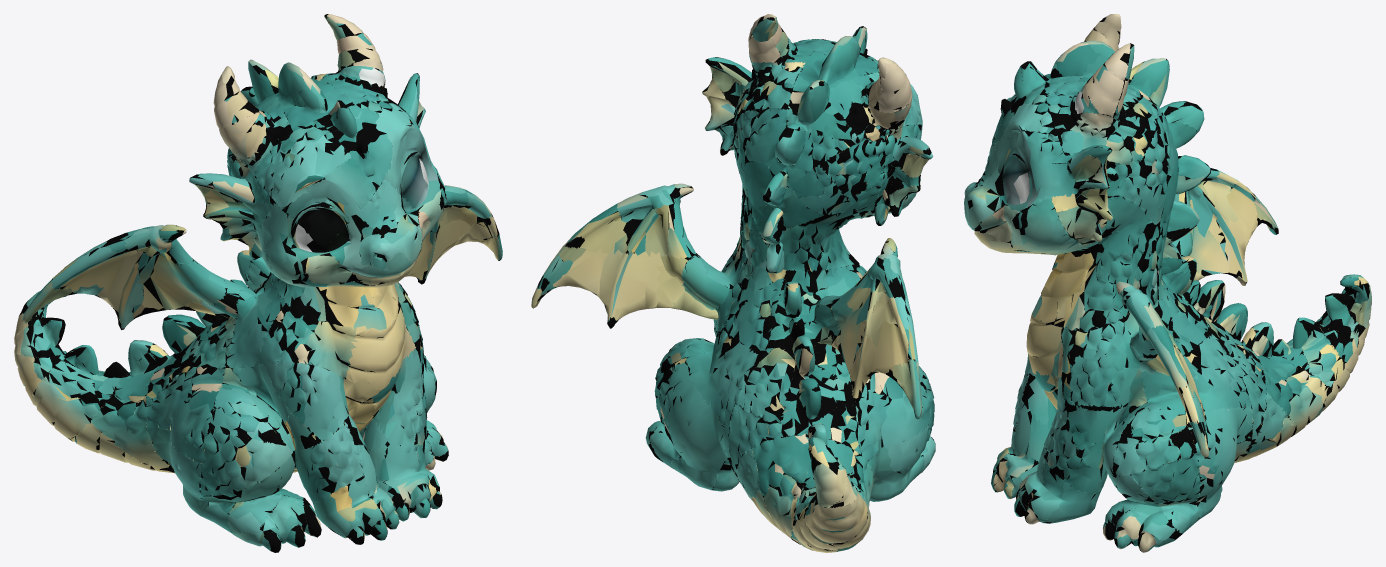
Rendered from inspection-lod.glb.
3 renders of one model, left to right at view 1: azimuth 30°, elevation 25°; view 2: azimuth 150°, elevation 25°; view 3: azimuth 270°, elevation 25°, orthographic. The views are drawn at different scales.
Parts seen in each view (by area): view 1: cartoon-dragon rebaked inspection LOD; view 2: cartoon-dragon rebaked inspection LOD; view 3: cartoon-dragon rebaked inspection LOD.
Part boxes in pixels (x1,y1,x2,y2): cartoon-dragon rebaked inspection LOD: [14, 14, 502, 552]; cartoon-dragon rebaked inspection LOD: [531, 14, 935, 552]; cartoon-dragon rebaked inspection LOD: [964, 14, 1371, 552].
Bounding box in the file's own units: 0.8829 × 0.9004 × 0.7311.
Materials: 1 (1 with a texture image).
